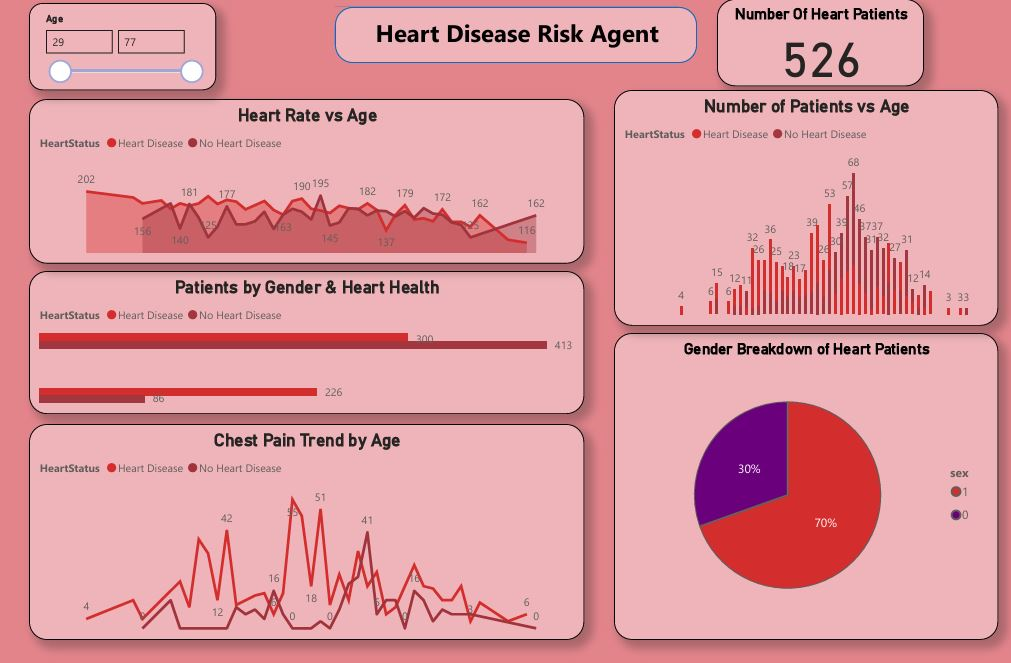

The dashboard page shown, as its layout file describes it:
{"tool":"powerbi","page":{"name":"Page 1","canvas":[1280,720],"ordinal":0},"visuals":[{"type":"shape","box":[474.4,8.9,402.2,62.2],"z":0},{"type":"textbox","box":[514.4,13.3,340,53.3],"z":1000},{"type":"card","title":"Number Of Heart Patients","fields":{"Values":["heart.HeartPatients"]},"box":[898.9,0,230,96.7],"z":2000},{"type":"pieChart","title":"Gender Breakdown of Heart Patients","fields":{"Category":["heart.sex"],"Y":["CountNonNull(heart.target)"]},"box":[784.4,371.1,426.7,341.1],"z":3000},{"type":"clusteredBarChart","title":"Patients by Gender & Heart Health","fields":{"Category":["heart.sex"],"Y":["CountNonNull(heart.target)"],"Series":["heart.HeartStatus"]},"box":[134.4,302.2,616.7,158.9],"z":4000},{"type":"ribbonChart","title":"Number of Patients vs Age","fields":{"Category":["heart.age"],"Y":["CountNonNull(heart.target)"],"Series":["heart.HeartStatus"]},"box":[784.4,101.1,426.7,262.2],"z":5000},{"type":"areaChart","title":"Heart Rate vs Age","fields":{"Category":["heart.age"],"Series":["heart.HeartStatus"],"Y":["Max(heart.thalach)"]},"box":[134.4,111.1,616.7,183.3],"z":6000},{"type":"lineChart","title":"Chest Pain Trend by Age","fields":{"Category":["heart.age"],"Series":["heart.HeartStatus"],"Y":["Sum(heart.cp)"]},"box":[134.4,472.2,616.7,240],"z":7000},{"type":"slicer","fields":{"Values":["heart.age"]},"box":[134.4,4.4,207.8,96.7],"z":8000}]}

Visuals, with their boxes on the page's 1280x720 design canvas (x1, y1, x2, y2). These are canvas units, not pixel positions in the 1011x663 screenshot, which may show the page scaled, cropped or inside an application window:
shape: Rect(474, 9, 877, 71)
textbox: Rect(514, 13, 854, 67)
"Number Of Heart Patients" card: Rect(899, 0, 1129, 97)
"Gender Breakdown of Heart Patients" pieChart: Rect(784, 371, 1211, 712)
"Patients by Gender & Heart Health" clusteredBarChart: Rect(134, 302, 751, 461)
"Number of Patients vs Age" ribbonChart: Rect(784, 101, 1211, 363)
"Heart Rate vs Age" areaChart: Rect(134, 111, 751, 294)
"Chest Pain Trend by Age" lineChart: Rect(134, 472, 751, 712)
slicer - heart.age: Rect(134, 4, 342, 101)
